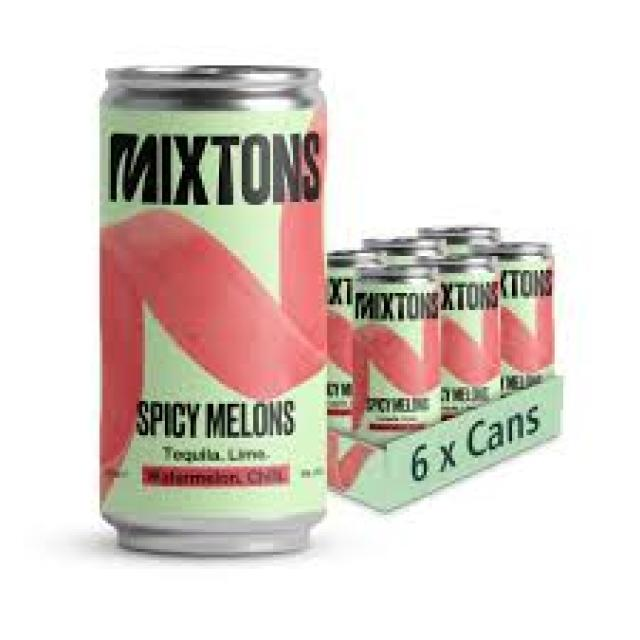Cans: (88, 49, 350, 558)
